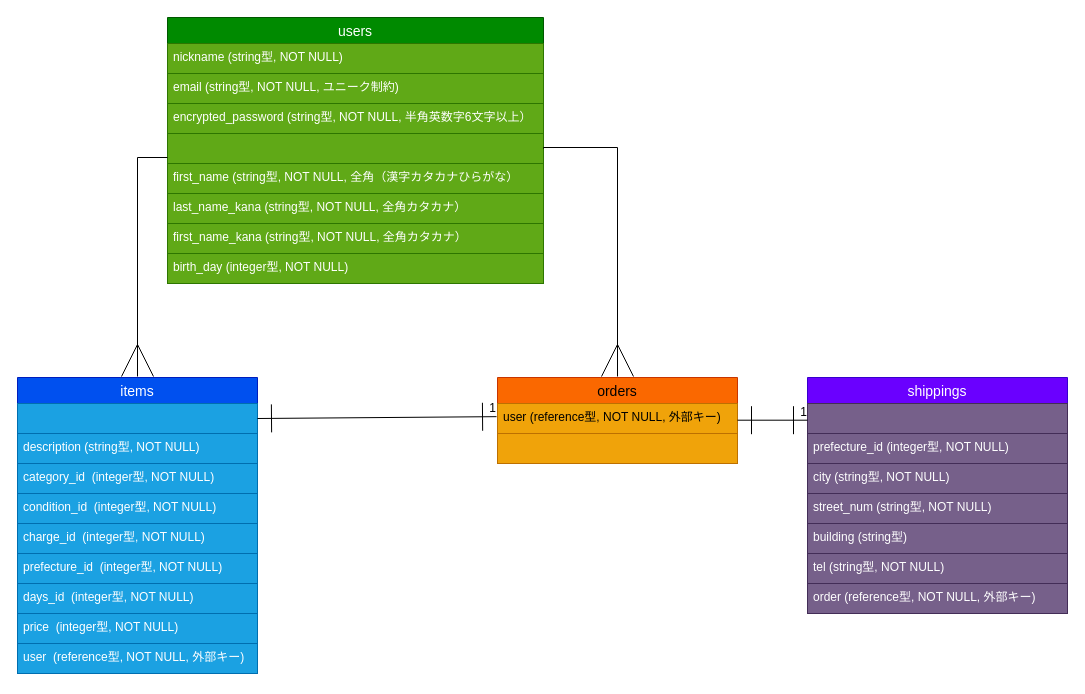
The diagram is 1085 pixels wide and 694 high, and some of its shapes have lost their labels. The shapes that lost their labels are listed below. From the top down, each one's centre as x and y in pixels, then its label:
At point (355, 148): "last_name (string型, NOT NULL, 全角（漢字カタカナひらがな）".
At point (137, 418): "item_name (string型, NOT NULL)".
At point (937, 418): "post_code (string型, NOT NULL)".
At point (617, 448): "item (reference型, NOT NULL, 外部キー)".
